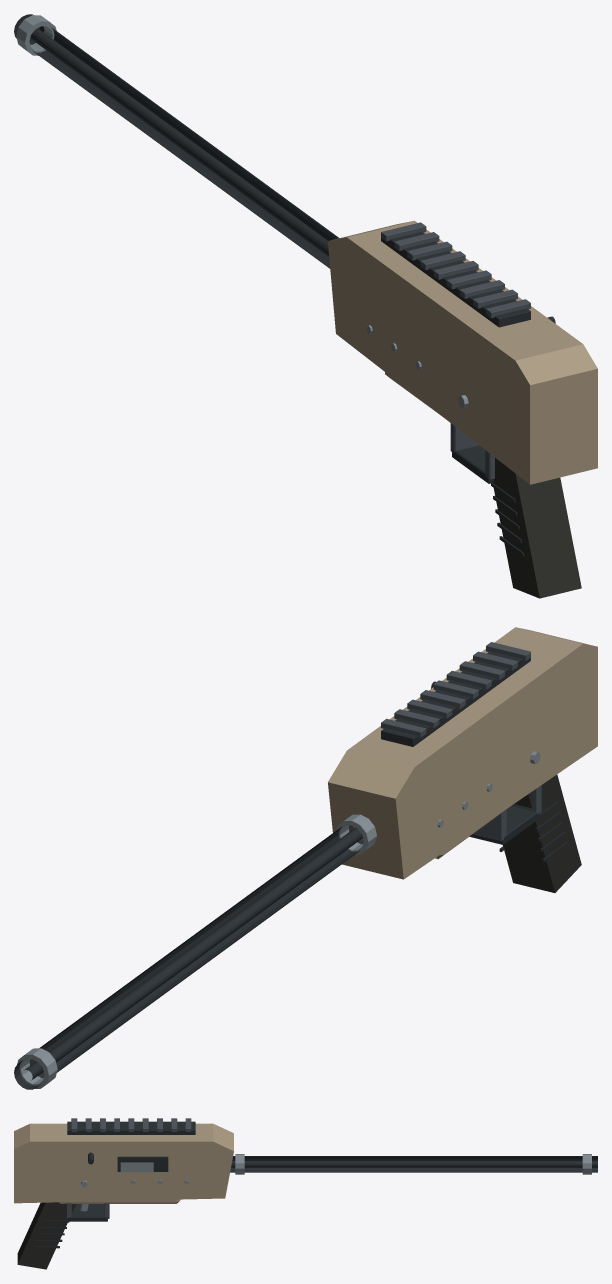
File: weapon_falcon762r.glb
The picture shows the model from 3 angles, top to bottom: view 1: azimuth 30°, elevation 25°; view 2: azimuth 150°, elevation 25°; view 3: azimuth 270°, elevation 25°; orthographic projection. The views are drawn at different scales.
Parts seen in each view (by area): view 1: Geometry_weapon_falcon762r; view 2: Geometry_weapon_falcon762r; view 3: Geometry_weapon_falcon762r.
Boxes of the visible parts, x1=… form: Geometry_weapon_falcon762r: x1=14, y1=14, x2=597, y2=598; Geometry_weapon_falcon762r: x1=14, y1=627, x2=597, y2=1089; Geometry_weapon_falcon762r: x1=14, y1=1118, x2=597, y2=1269.
Size of the model in its own units: 0.1037 by 0.262 by 0.987.
